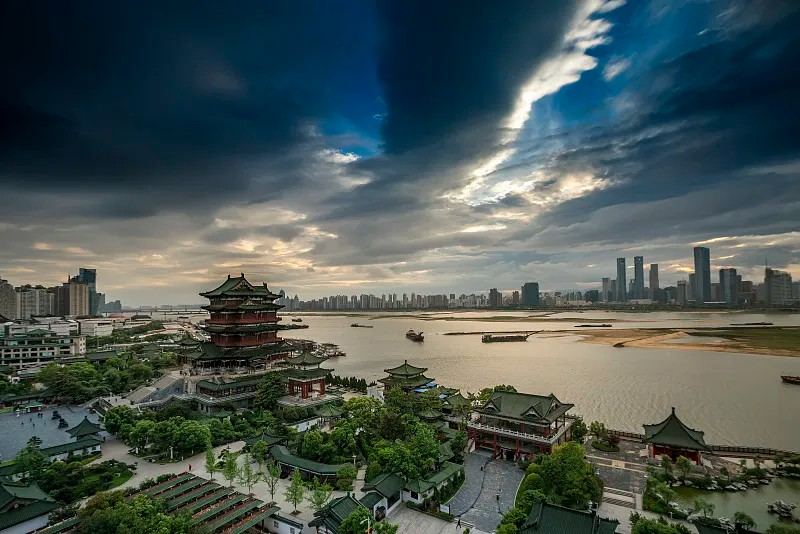Teng: (194, 272, 295, 367)
